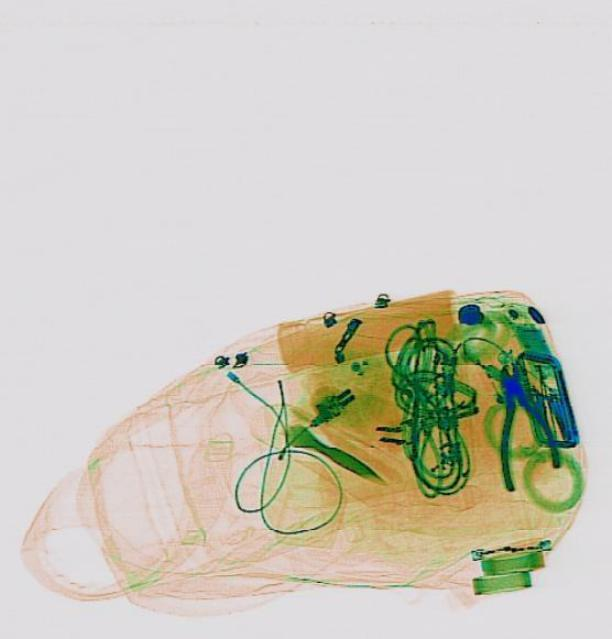Pliers: (474, 354, 564, 491)
